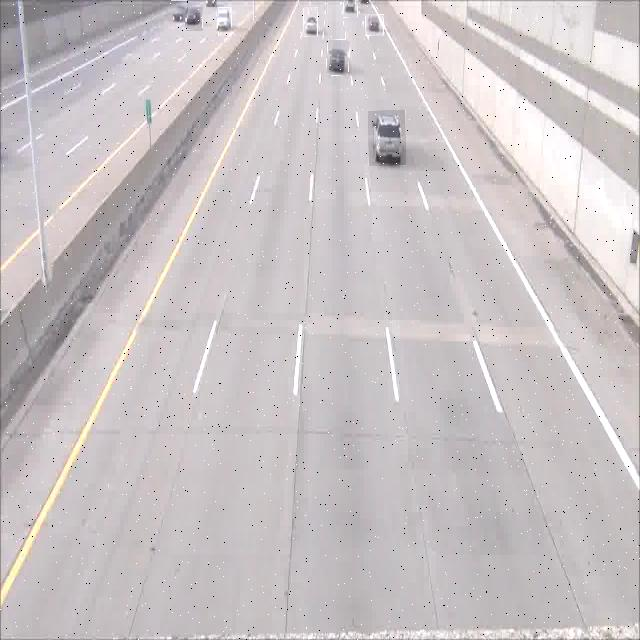Car: (368, 110, 406, 166), (326, 40, 350, 76), (304, 7, 318, 37), (186, 8, 203, 32), (218, 7, 232, 36), (366, 14, 384, 36), (171, 0, 187, 23), (344, 0, 358, 18)
